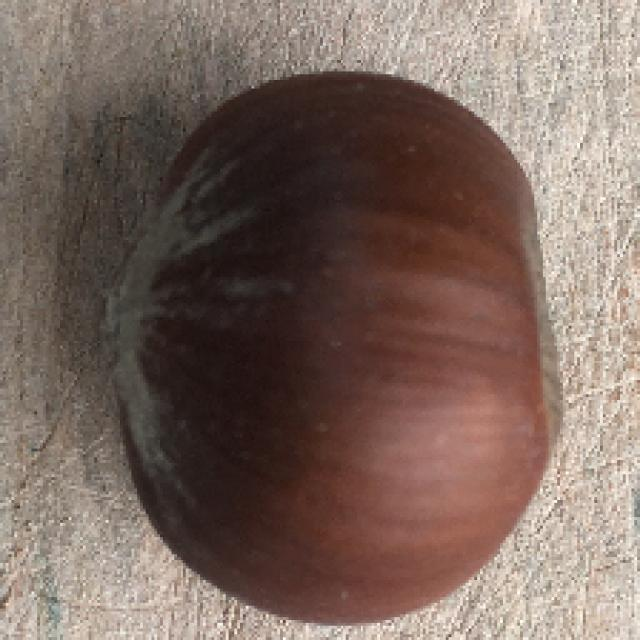qualityHazelnut: (96, 68, 576, 630)
